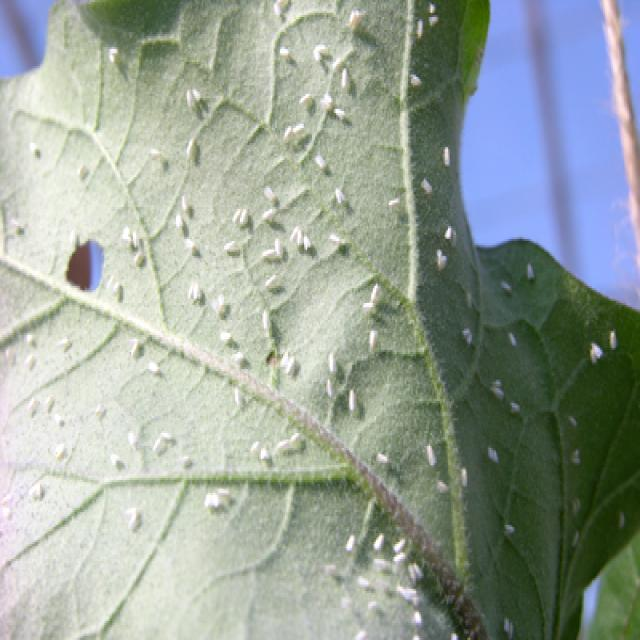Whitefly: (163, 427, 488, 640), (173, 190, 432, 425), (0, 321, 149, 540), (268, 0, 392, 180), (366, 439, 510, 509), (106, 203, 170, 297), (405, 0, 455, 114), (168, 78, 231, 167), (562, 390, 590, 584), (478, 364, 538, 441), (496, 245, 542, 313), (572, 324, 632, 374), (92, 31, 136, 92), (421, 133, 459, 203), (432, 216, 470, 278), (18, 122, 56, 174), (494, 490, 524, 548), (452, 311, 488, 354), (494, 601, 516, 640)
